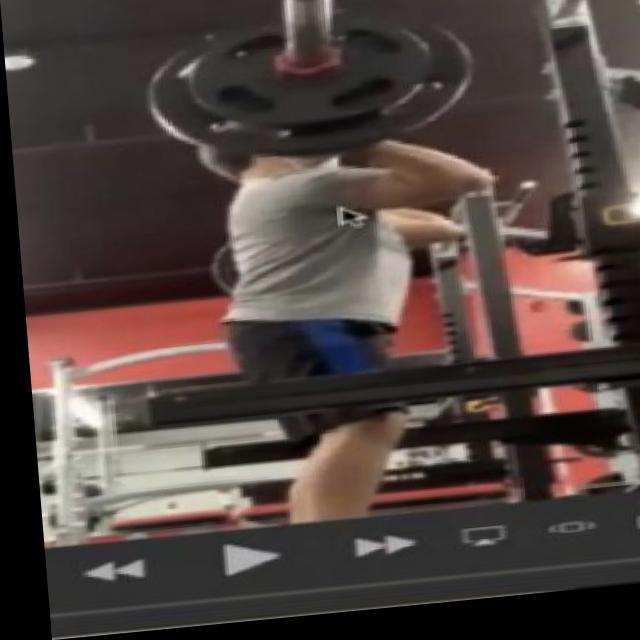barbell: (133, 1, 480, 181)
